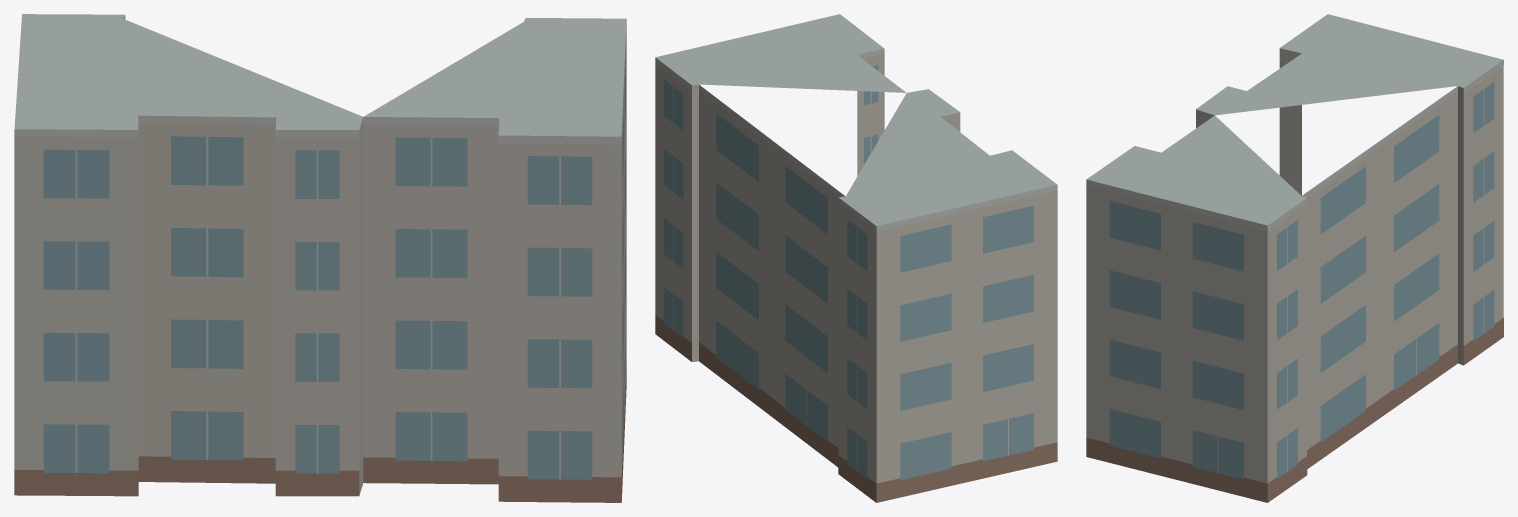
Rendered from survey-upis-32803324.glb.
The picture shows the model from 3 angles, left to right: view 1: azimuth 30°, elevation 25°; view 2: azimuth 150°, elevation 25°; view 3: azimuth 270°, elevation 25°; orthographic projection. The views are drawn at different scales.
Parts seen in each view (by area): view 1: survey-upis-32803324.tmp; view 2: survey-upis-32803324.tmp; view 3: survey-upis-32803324.tmp.
Part boxes in pixels (x1,y1,x2,y2): survey-upis-32803324.tmp: (14,14,626,502); survey-upis-32803324.tmp: (655,14,1057,502); survey-upis-32803324.tmp: (1086,14,1503,502).
Bounding box in the file's own units: 19.14 × 11.7 × 15.97.
